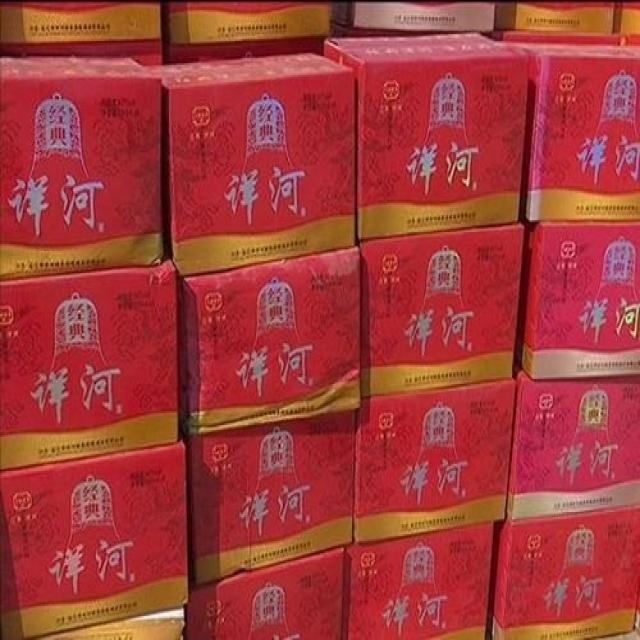box: (147, 52, 356, 278), (322, 30, 528, 240), (0, 55, 164, 283), (1, 441, 189, 638), (0, 264, 179, 470), (176, 242, 362, 434), (180, 409, 359, 586), (359, 223, 526, 398), (355, 379, 517, 543), (506, 40, 639, 222), (508, 361, 639, 522), (513, 220, 639, 380), (487, 509, 639, 637), (343, 525, 494, 637), (182, 544, 345, 637), (2, 1, 165, 65), (161, 2, 334, 61), (332, 1, 495, 35), (494, 1, 617, 43), (39, 609, 186, 638), (613, 2, 639, 46), (334, 22, 405, 36)
